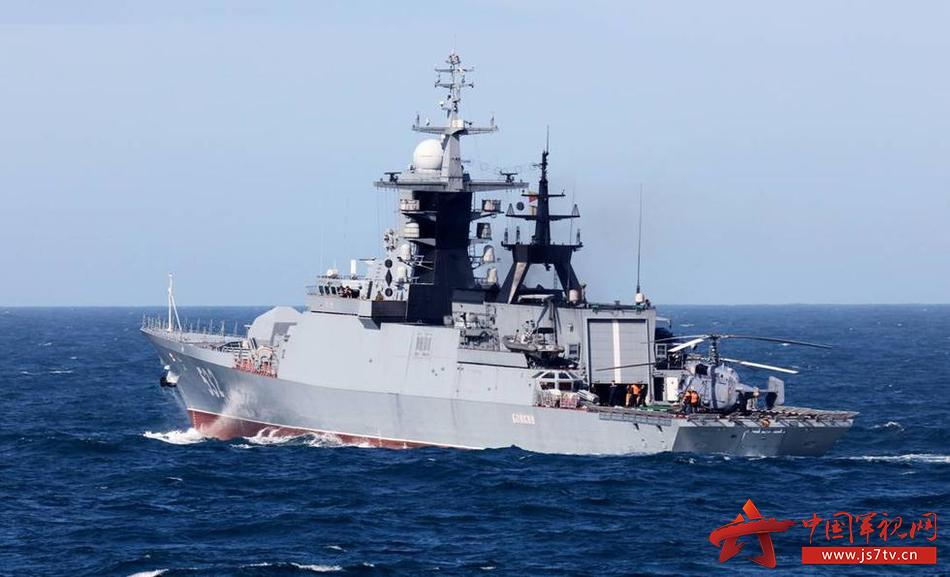warship: (113, 53, 841, 466)
